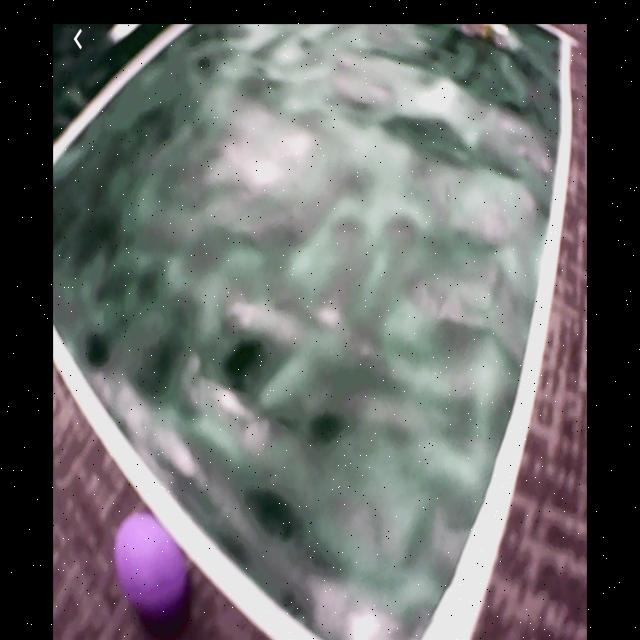ball: (113, 511, 192, 634)
